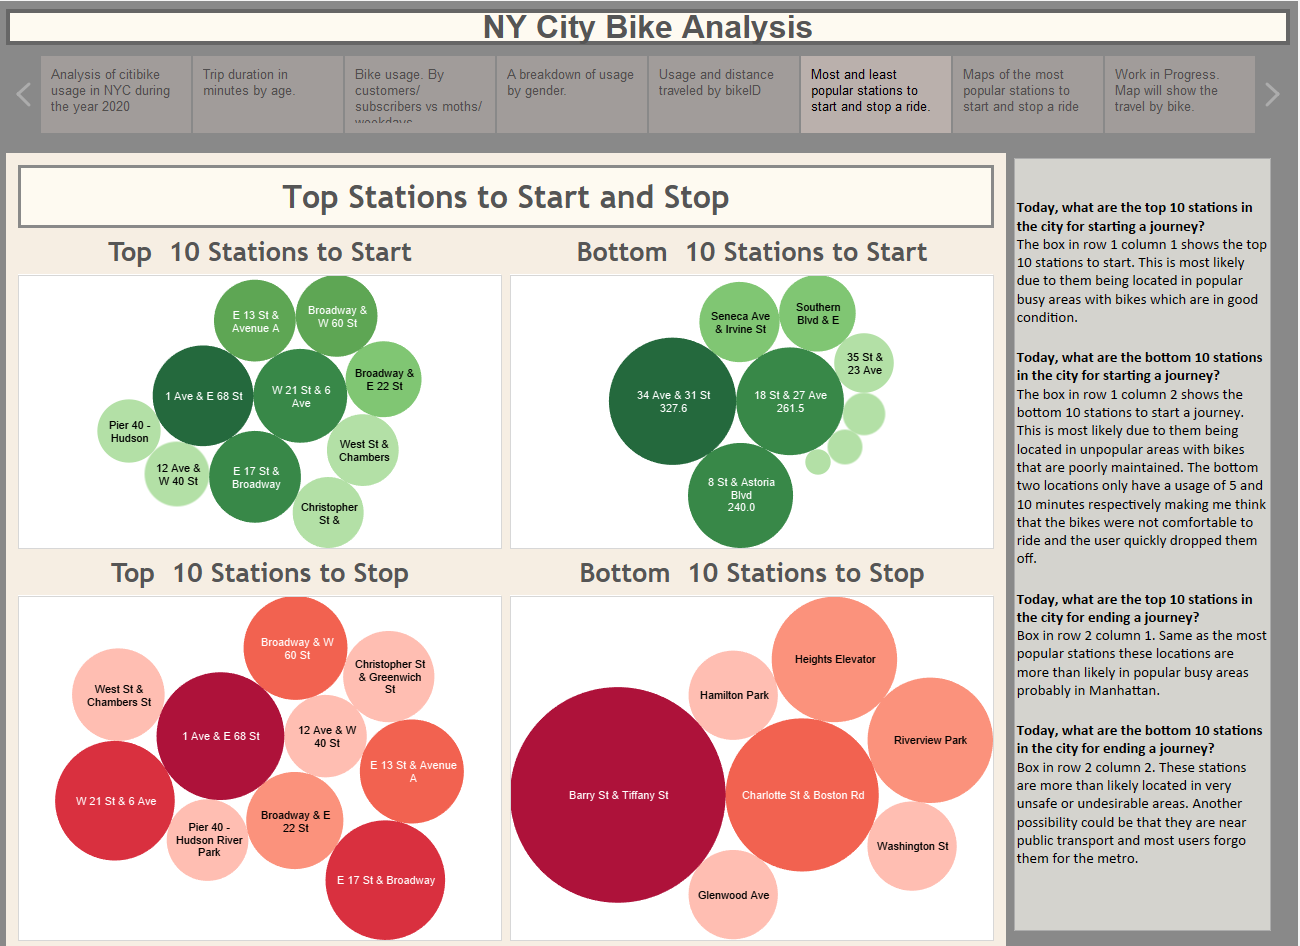

This screenshot's page, from the dashboard's own definition file:
{"tool":"tableau","page":{"name":"Start/Stop Dash","canvas":[1000,800],"ordinal":3},"visuals":[{"type":"title","box":[8,8,984,71]},{"type":"worksheet","title":"1.8 Top Stations","mark":"Circle","box":[8,79,492,321]},{"type":"worksheet","title":"1.8.1 Bottom to Start","mark":"Circle","box":[500,79,492,321]},{"type":"worksheet","title":"1.9 Top stations to end","mark":"Circle","box":[8,400,492,392]},{"type":"worksheet","title":"1.9.1 Bottom stations to end ","mark":"Circle","box":[500,400,492,392]}]}

Visuals, with their boxes on the page's 1000x800 design canvas (x1, y1, x2, y2). These are canvas units, not pixel positions in the 1300x946 screenshot, which may show the page scaled, cropped or inside an application window:
title: rect(8, 8, 992, 79)
"1.8 Top Stations" worksheet (Circle marks): rect(8, 79, 500, 400)
"1.8.1 Bottom to Start" worksheet (Circle marks): rect(500, 79, 992, 400)
"1.9 Top stations to end" worksheet (Circle marks): rect(8, 400, 500, 792)
"1.9.1 Bottom stations to end " worksheet (Circle marks): rect(500, 400, 992, 792)
